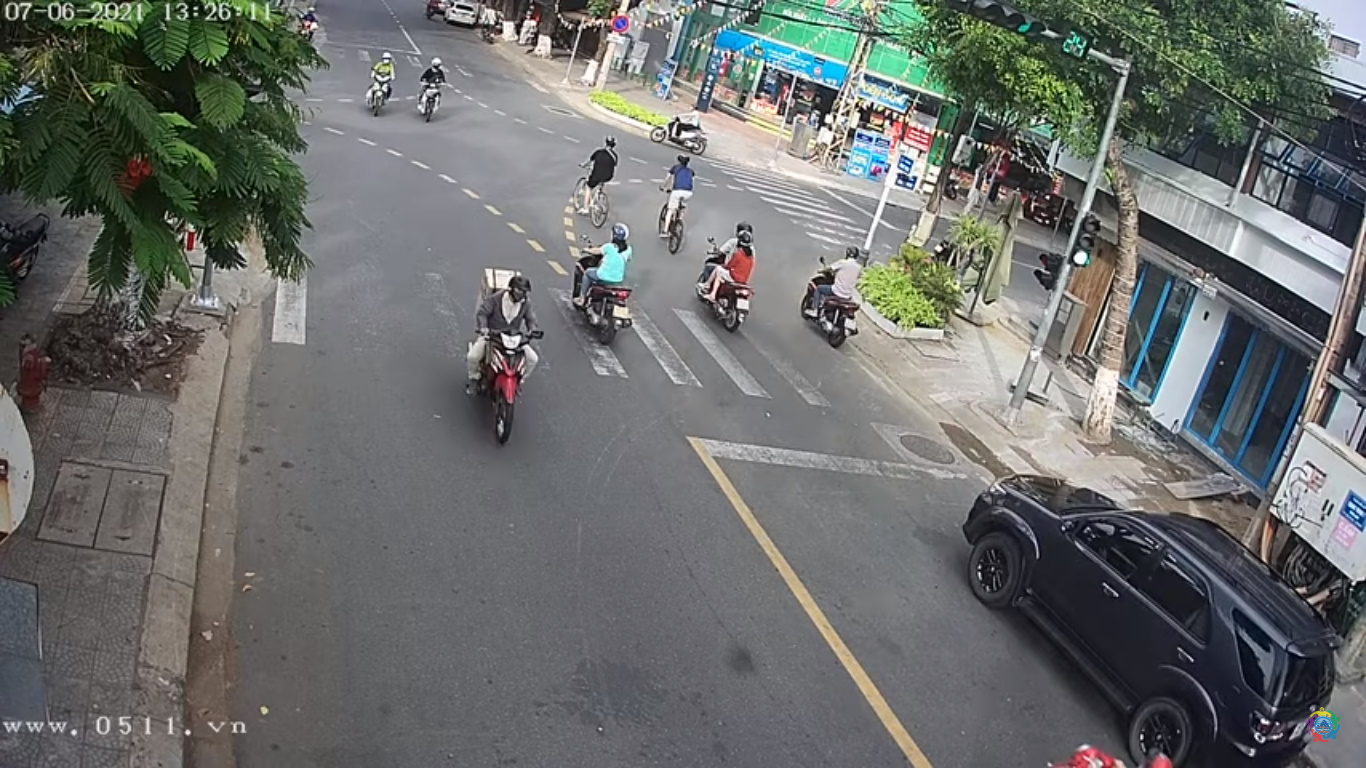motorbike: (470, 272, 550, 442)
